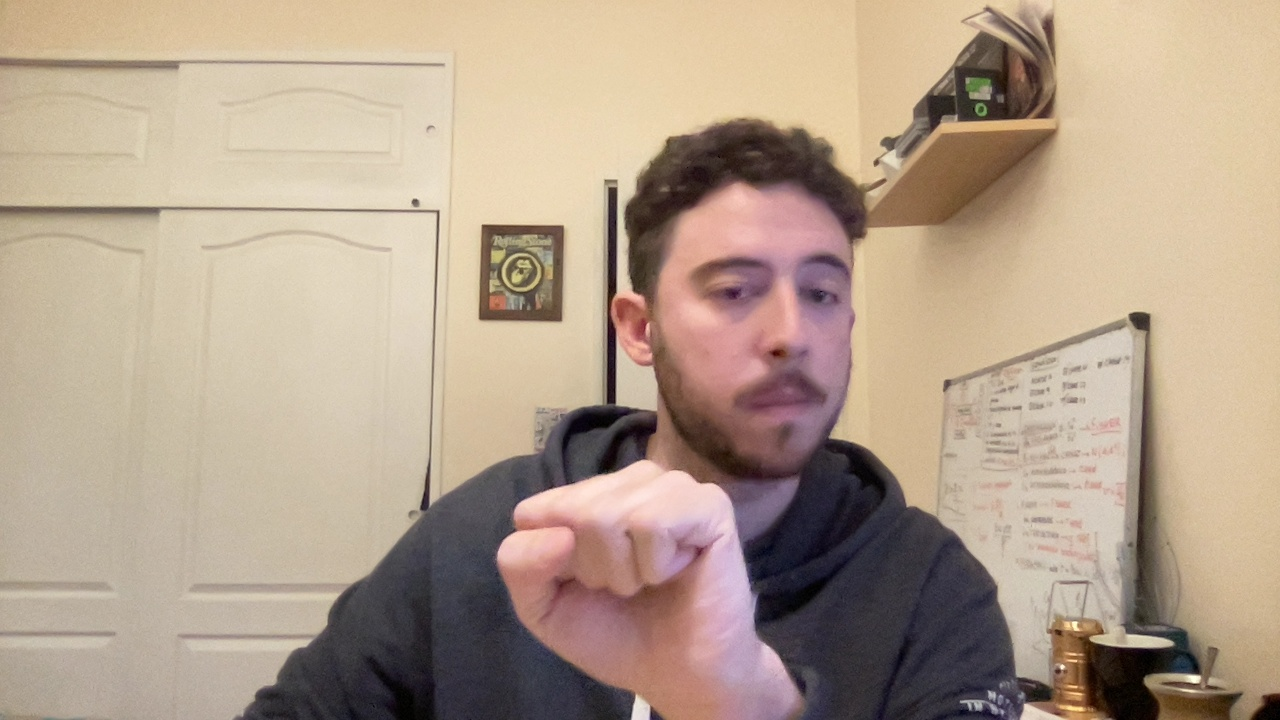cerrado: (472, 455, 771, 679)
